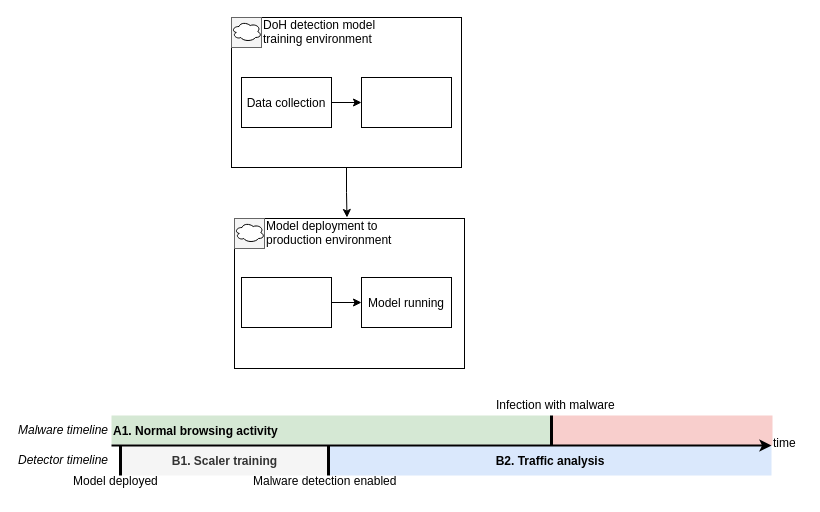
This 820x512 diagram has some shape labels left out. The shapes that lost their labels are listed below. From the top down, each one's centre as x and y in pixels, then its label:
At point 406,102: "Model training".
At point 286,302: "Model tuning".
At point 662,430: "A2. Normal browsing activity AND malware activity on one node".
